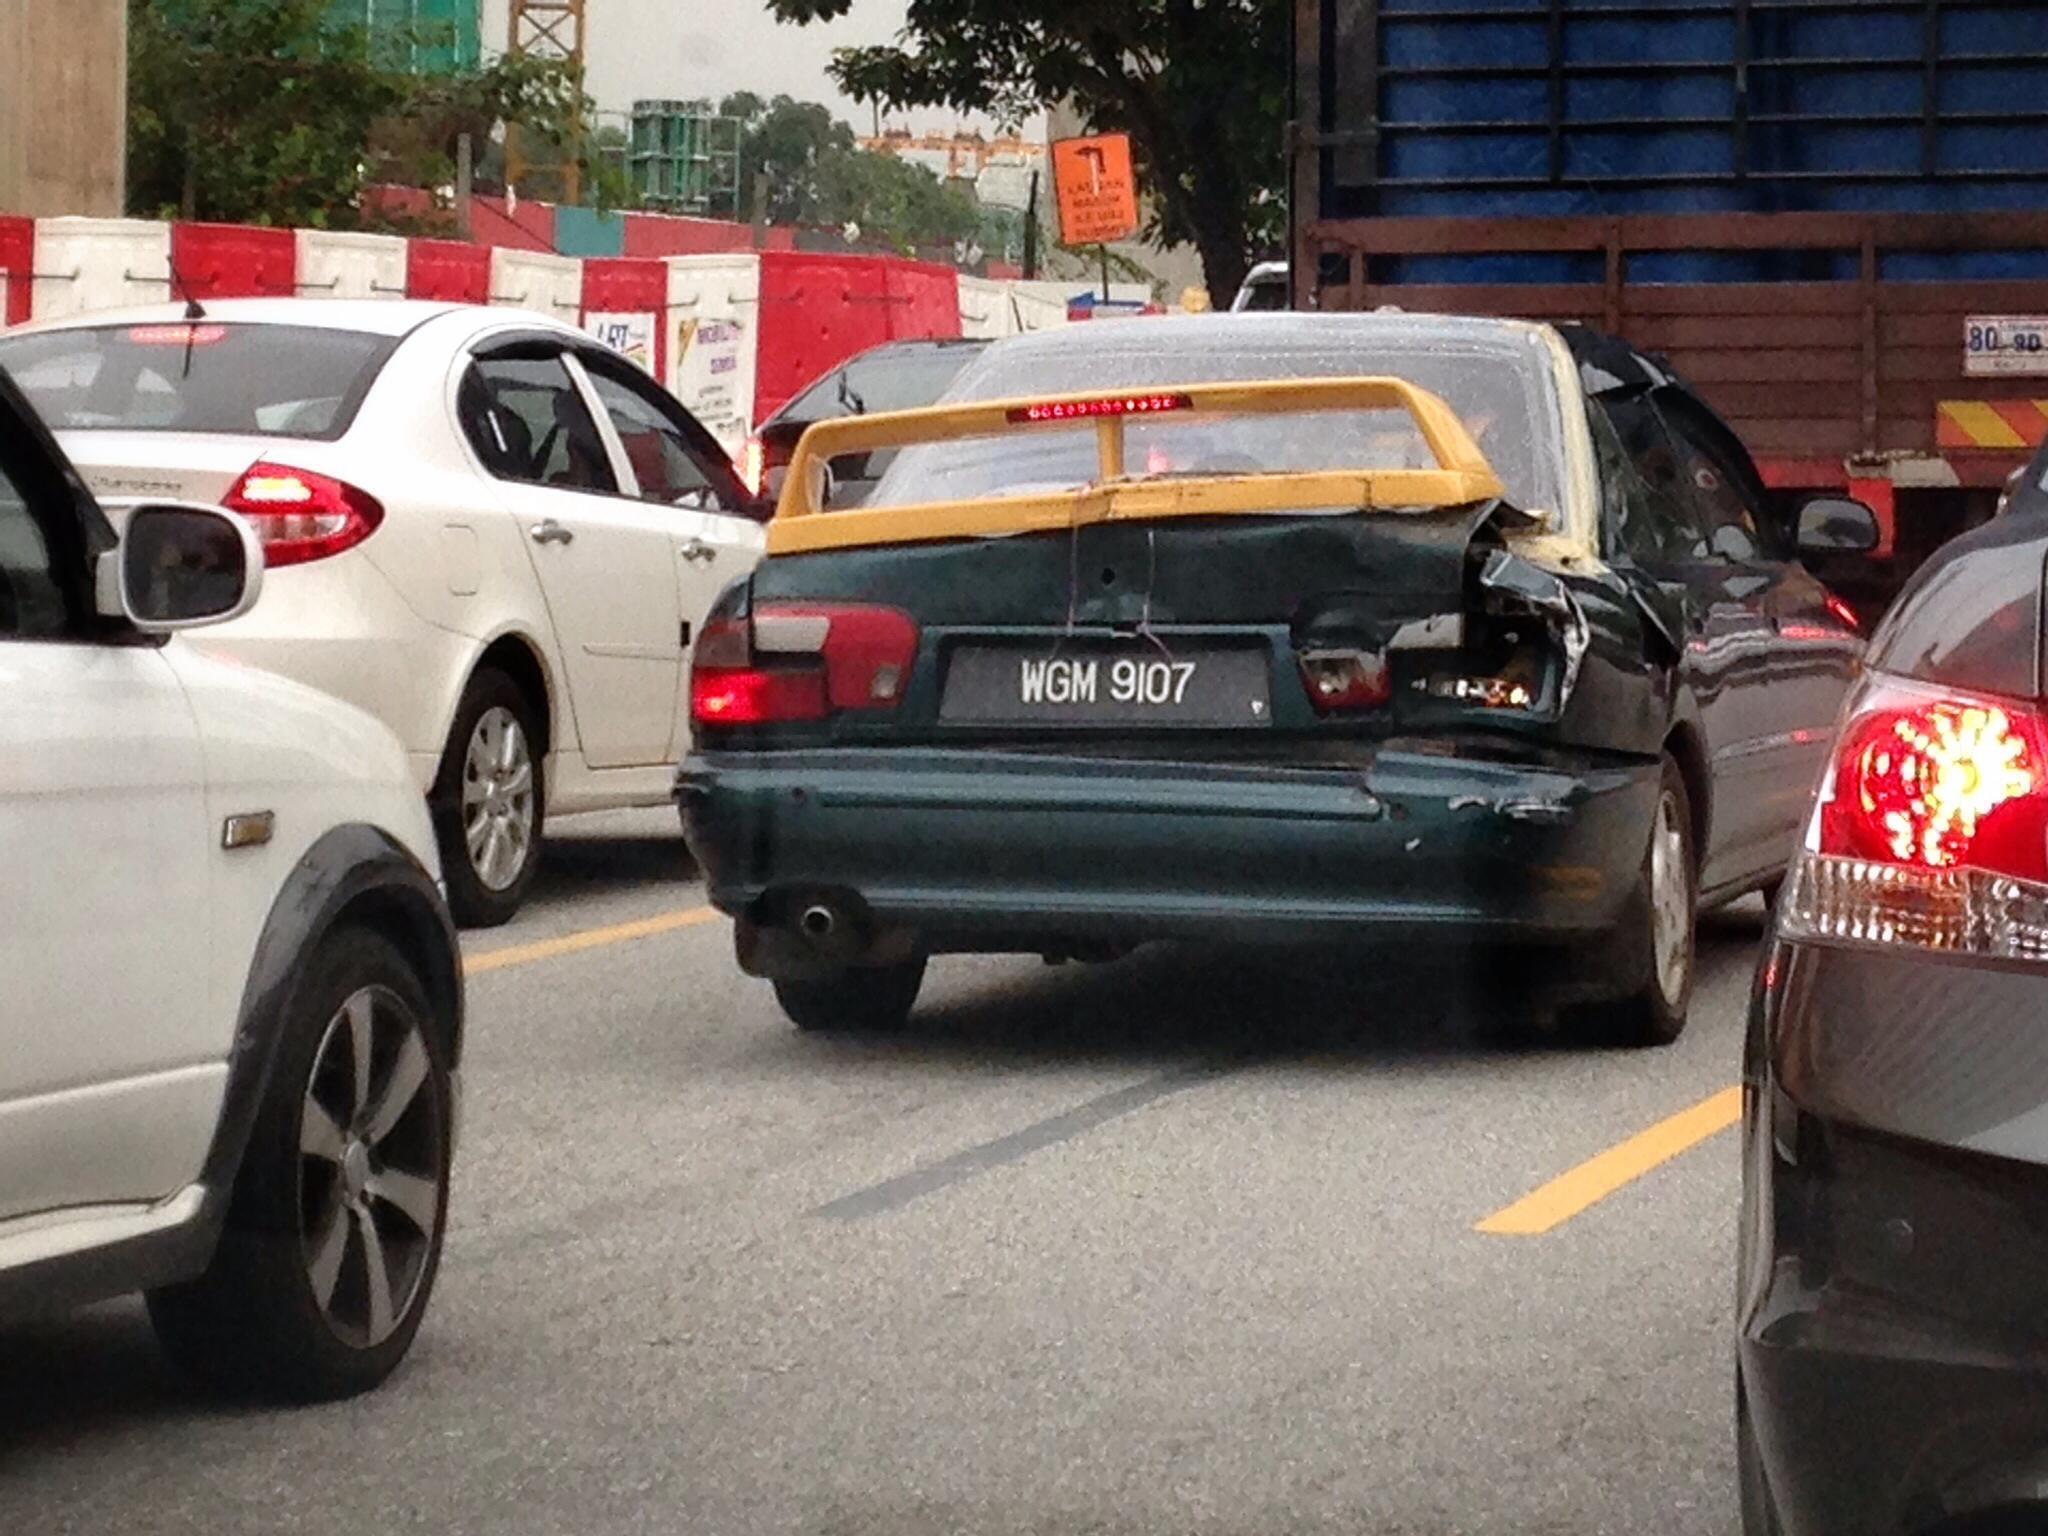boot-dent: (839, 490, 1397, 757)
